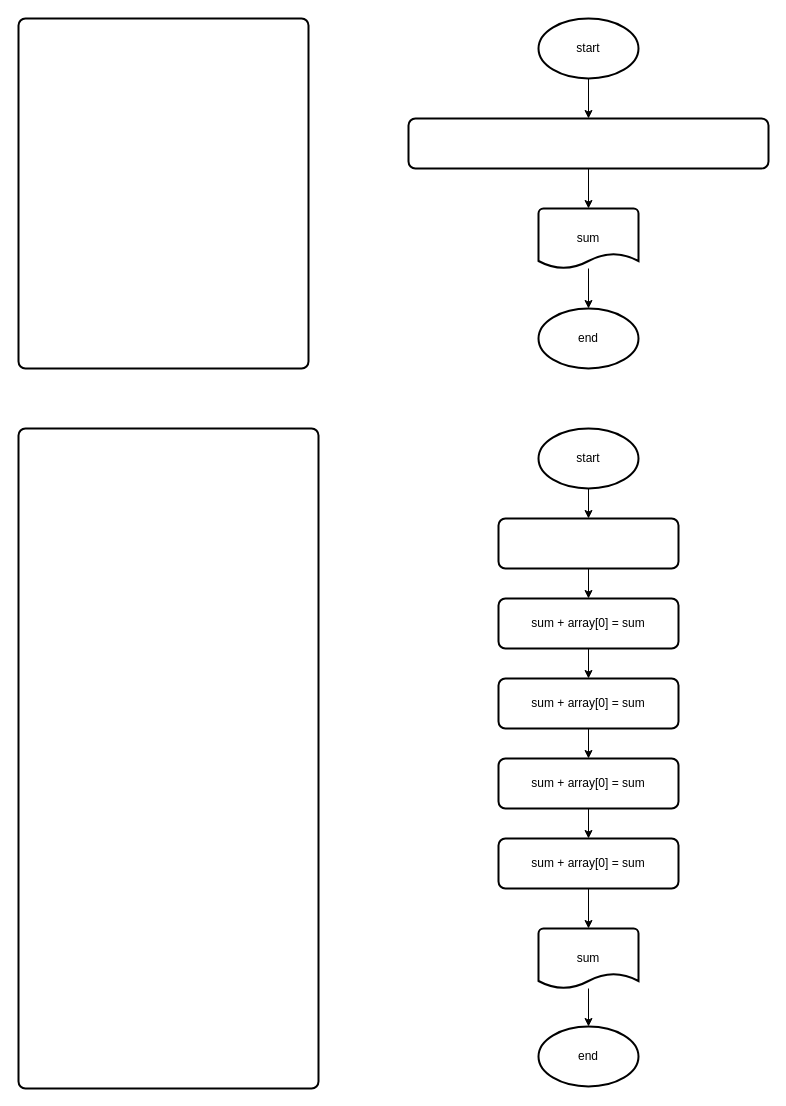
The diagram is 786 pixels wide and 1106 high, and some of its shapes have lost their labels. The centre of each missing label's shape, as x and y in pixels:
"0 += sum" goes at (588,543).
"0번째 += sum sum +1번째 = sum sum +2번째 = sum sum +3번째 = sum sum +4번째 = sum sum 출력" goes at (168,758).
"0번째+1번째+2번째+3번째+4번째 = sum sum 출력" goes at (163,193).
"array + array1 + array2 + array3 + array4 = sum" goes at (588,143).
